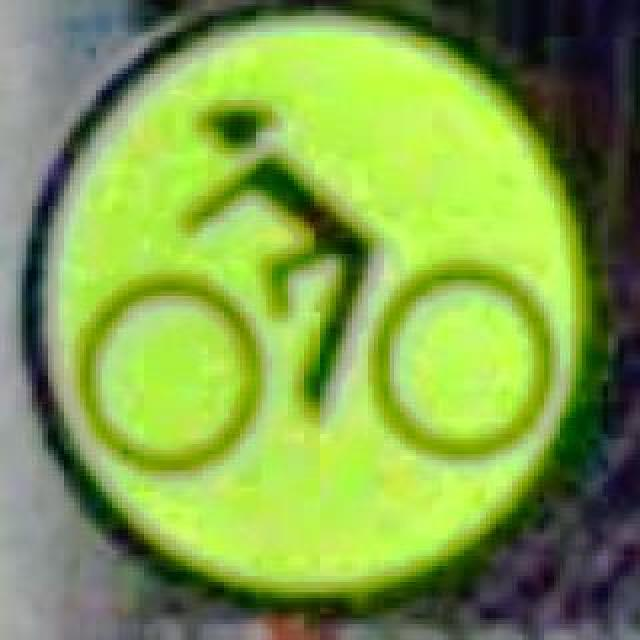bike lane: (16, 0, 608, 604)
